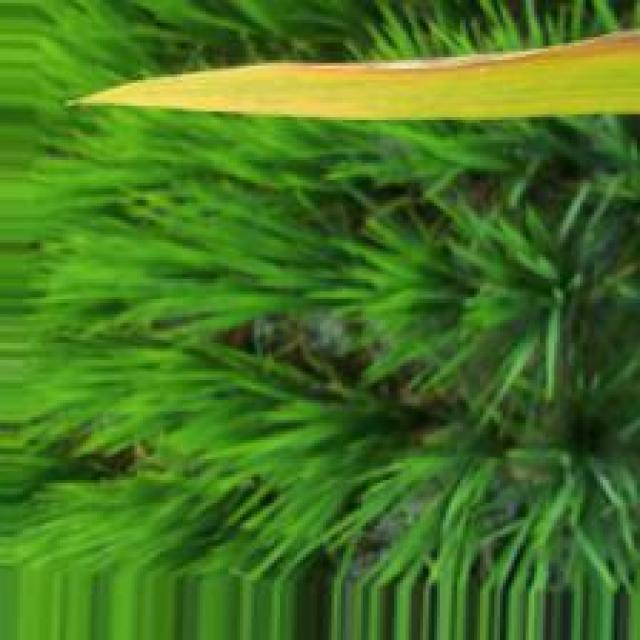Bacterial_Leaf_Blight: (80, 64, 456, 118), (299, 33, 640, 74)
